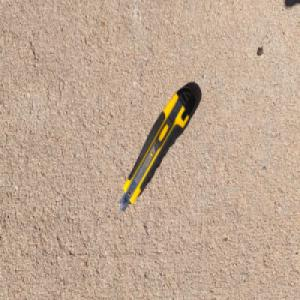Cutter: (118, 83, 197, 214)
